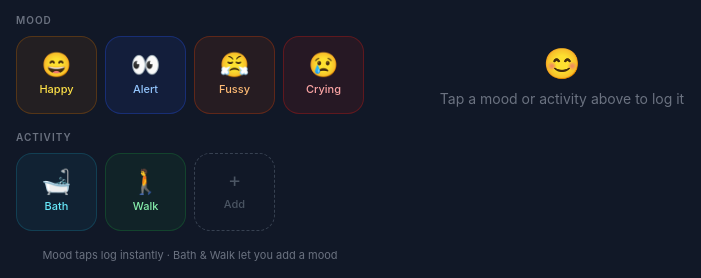
Scenario: MoodPage › shows the inline add form when the + button is clicked
This screenshot has width=701, height=278.
Click the text "Add" at point(234, 205), box [224,196,245,213]
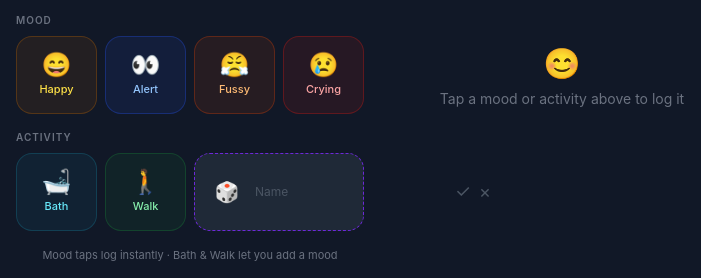
Now the field with placeholder "🎲" is shown, box [207,178,247,206]
Now the field with placeholder "Name" is shown, box [255,184,447,200]
